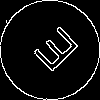E: (25, 25, 81, 80)
